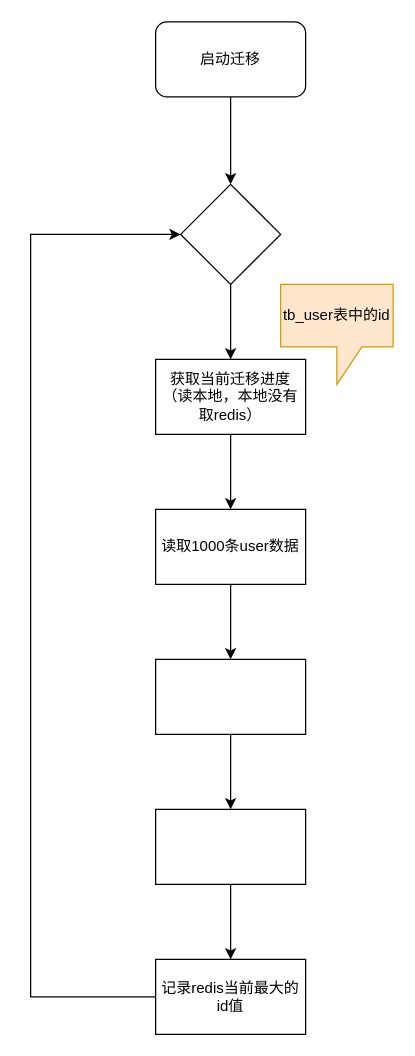
This 415x1056 diagram has some shape labels left out. The centre of each missing label's shape, as x and y in pixels:
"register表插入" goes at point 230,846.
"根据user_login表查询拼音识字是否都有" goes at point 230,696.
"读取redis，是否开启迁移" goes at point 230,233.
